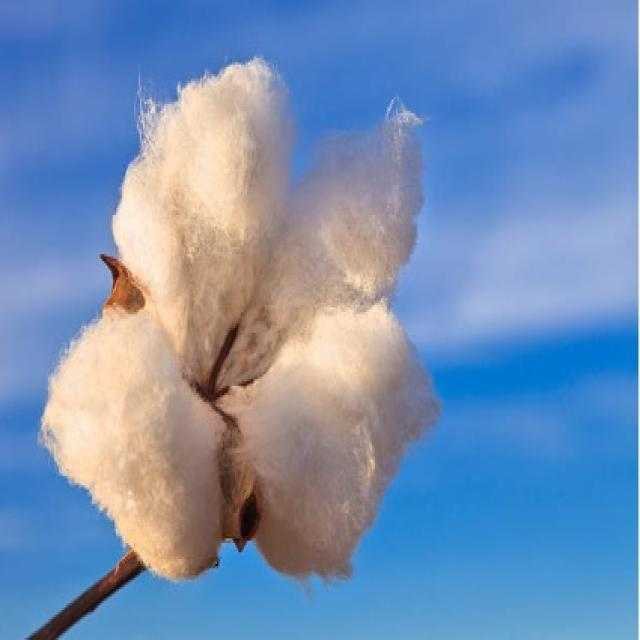Matured Cotton Boll: (36, 70, 418, 586)
